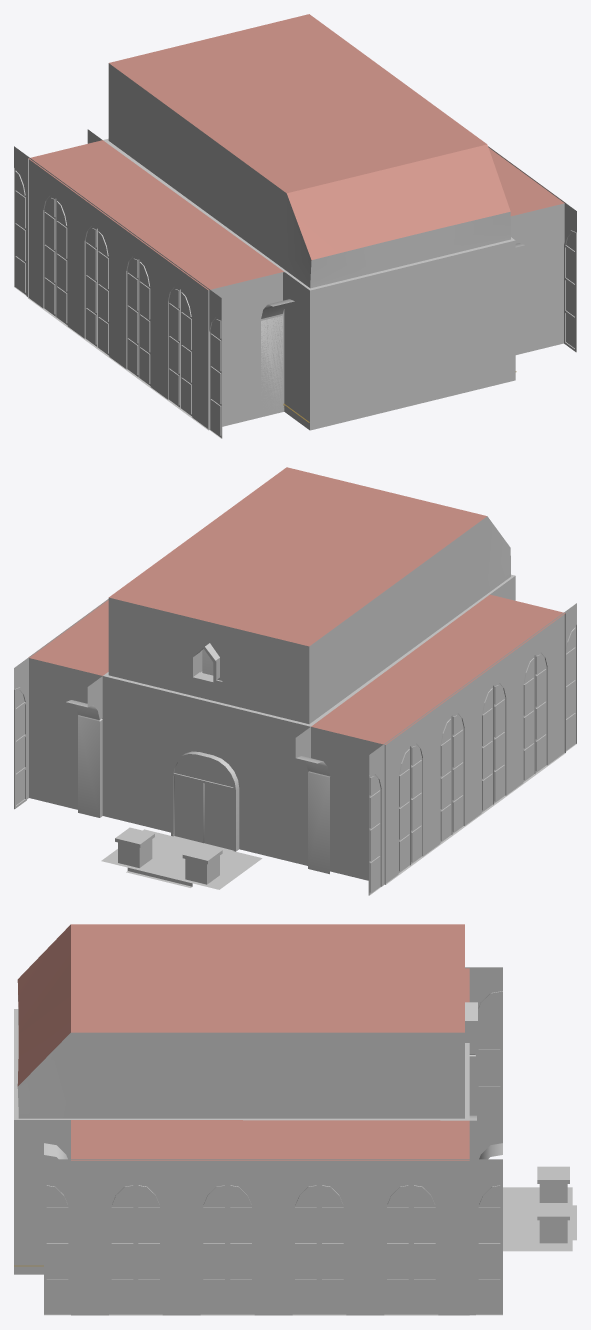
Rendered from ThroneRoom.fbx.
3 views of the same model, one above another, from view 1: azimuth 30°, elevation 25°; view 2: azimuth 150°, elevation 25°; view 3: azimuth 270°, elevation 25° (orthographic). The views are drawn at different scales.
Parts seen in each view (by area): view 1: ThroneRoom_Walls, ThroneRoom_PillarsWindows; view 2: ThroneRoom_Walls, ThroneRoom_PillarsWindows, ThroneRoom_Door_R, ThroneRoom_Door_L; view 3: ThroneRoom_Walls, ThroneRoom_PillarsWindows.
Part boxes in pixels (left/top/right/bottom): ThroneRoom_Walls: left=28, top=14, right=565, bottom=430; ThroneRoom_PillarsWindows: left=14, top=129, right=576, bottom=438; ThroneRoom_Walls: left=28, top=467, right=565, bottom=889; ThroneRoom_PillarsWindows: left=14, top=586, right=576, bottom=895; ThroneRoom_Door_R: left=174, top=776, right=204, bottom=843; ThroneRoom_Door_L: left=204, top=783, right=233, bottom=850; ThroneRoom_Walls: left=14, top=924, right=576, bottom=1315; ThroneRoom_PillarsWindows: left=44, top=967, right=502, bottom=1315.
Size of the model in its own units: 24.07 by 14.22 by 29.66.
